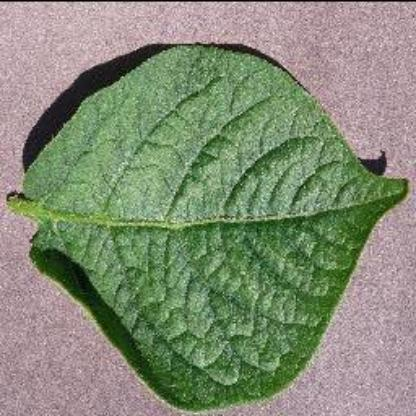Healthy-plant: (8, 34, 408, 412)
